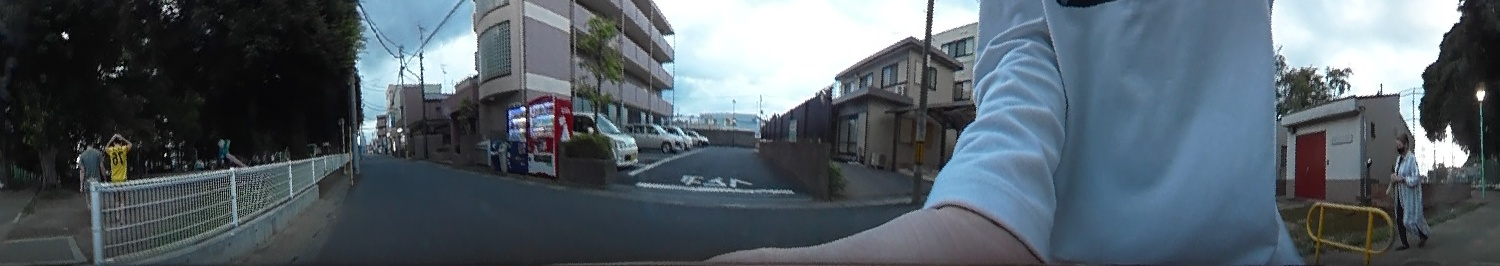person: (1379, 130, 1429, 249), (75, 134, 106, 191), (106, 127, 131, 180)
